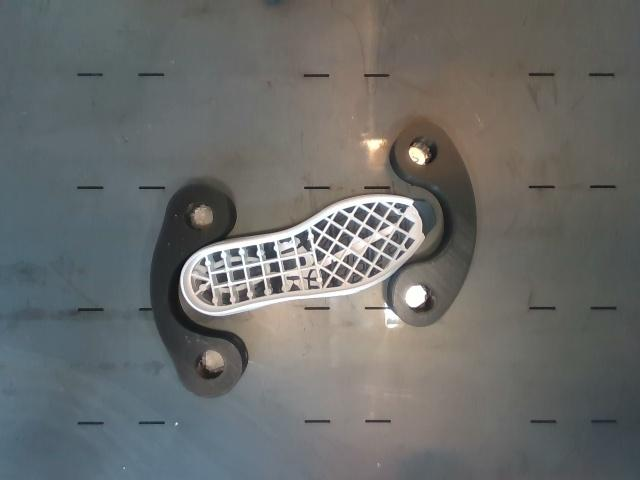shoes: (183, 197, 433, 313)
